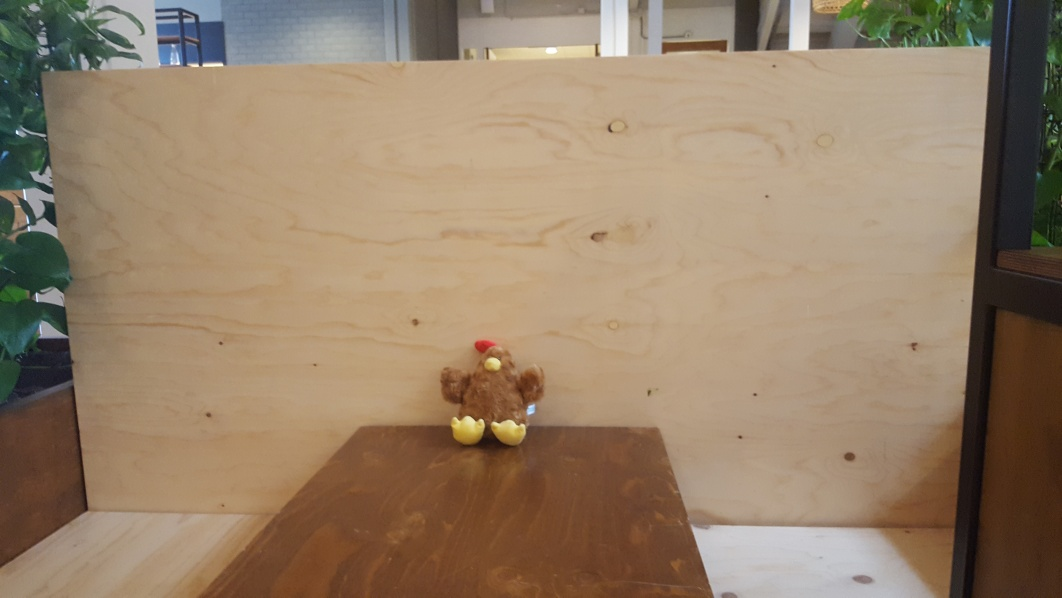chicken: (436, 334, 550, 448)
